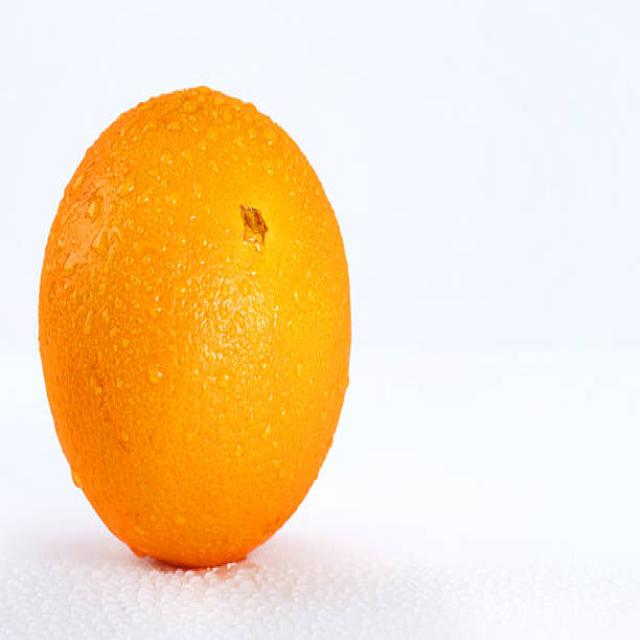Ripe: (31, 87, 357, 570)
